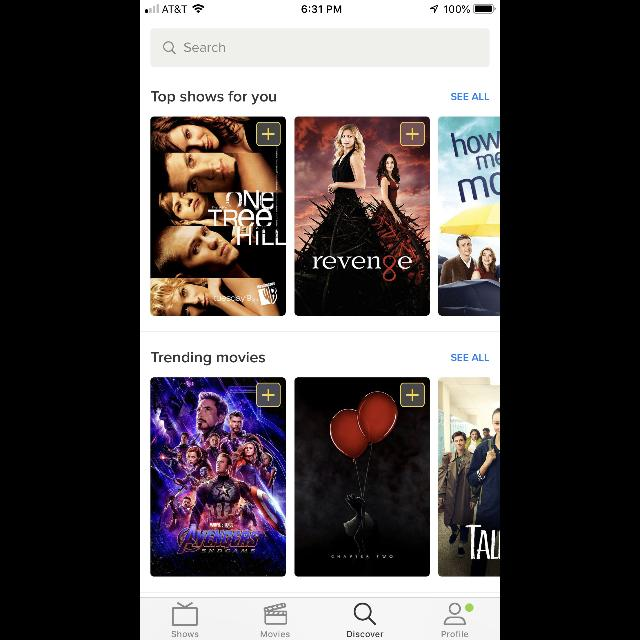icon: (444, 602, 474, 626), (256, 120, 280, 146), (400, 122, 424, 146), (257, 383, 281, 407), (401, 383, 425, 407), (354, 603, 376, 625), (164, 41, 176, 54)
image: (150, 117, 286, 316), (294, 117, 430, 316), (150, 378, 286, 576), (294, 378, 430, 576), (438, 117, 500, 316), (438, 378, 499, 576), (172, 602, 198, 626), (264, 603, 288, 625)
input: (150, 29, 490, 67)
text: (150, 91, 276, 105), (151, 352, 265, 366), (185, 44, 225, 52), (451, 354, 489, 362), (346, 630, 384, 638), (260, 630, 290, 638), (451, 94, 489, 100), (442, 630, 468, 638), (172, 631, 198, 637)
uppertaskbar: (140, 0, 500, 14)
